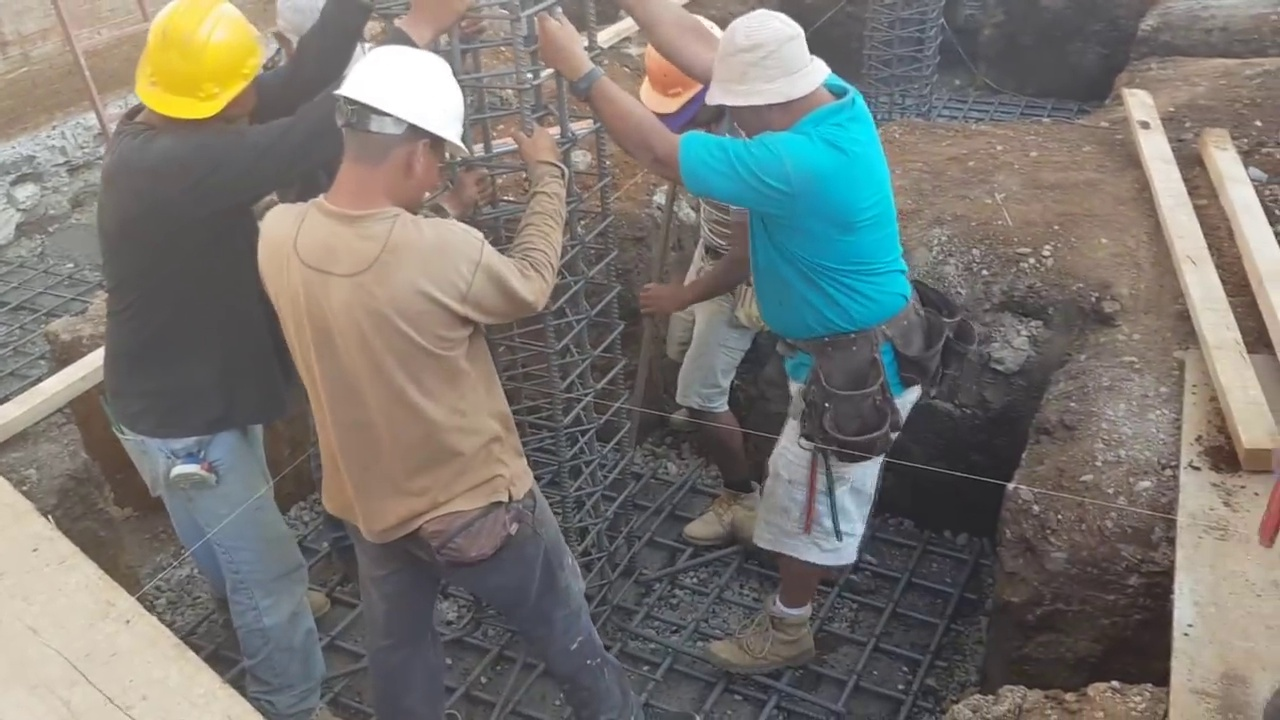helmet: (125, 5, 263, 125), (330, 44, 468, 155), (632, 39, 707, 114)
helmet-off: (690, 11, 844, 143)
helmet-on: (315, 33, 469, 227), (110, 11, 268, 138), (639, 27, 726, 135)
person: (251, 53, 647, 720), (582, 0, 924, 648), (86, 0, 369, 720), (628, 27, 766, 560)
